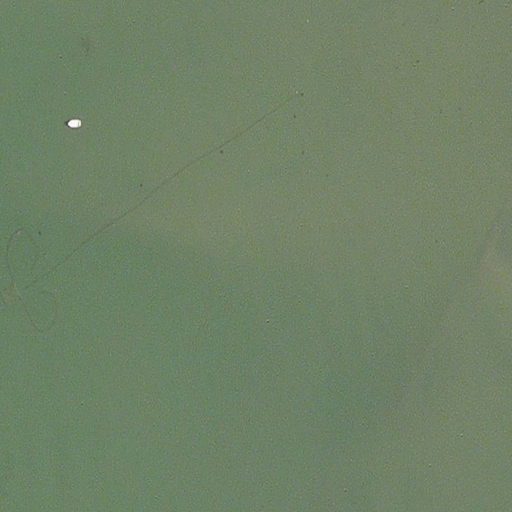ship: (67, 116, 82, 131)
